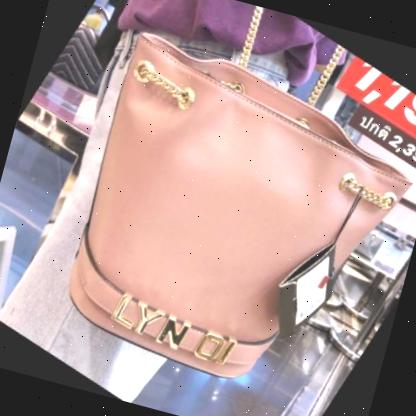bag: (38, 11, 416, 416)
